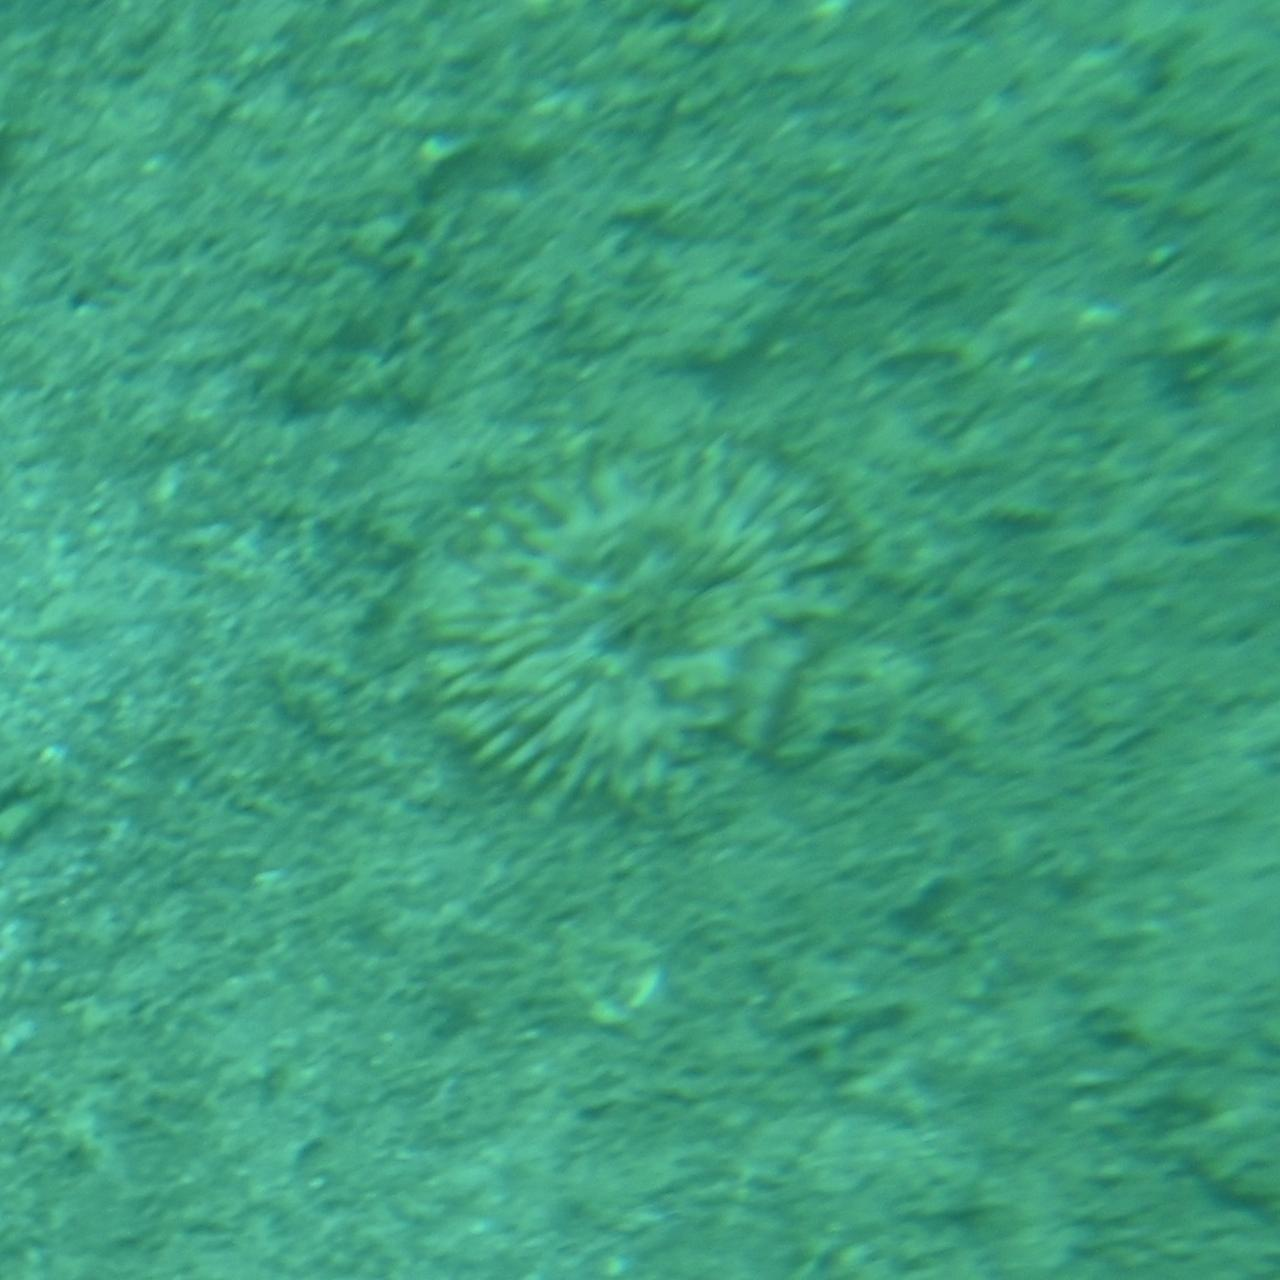Condylactis aurantiaca: (402, 423, 878, 857)
